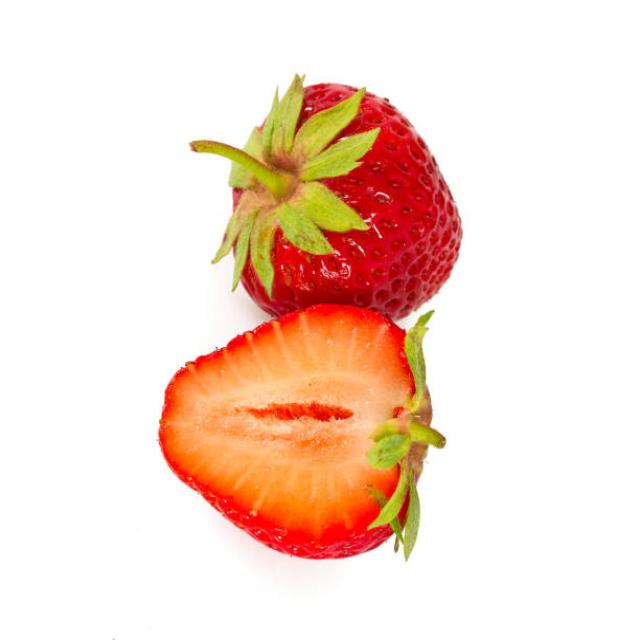Healthy Fruit: (155, 302, 405, 557), (233, 83, 463, 321)
